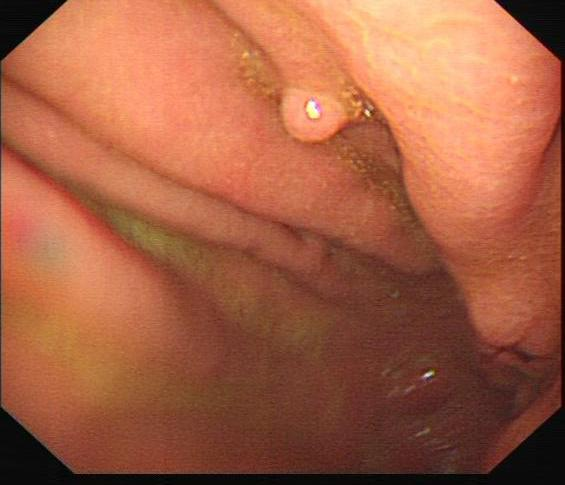Polyp: (275, 82, 355, 151)
